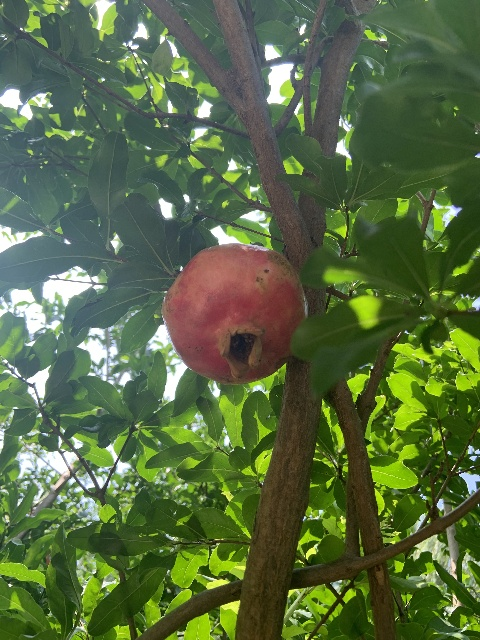ripe: (161, 244, 306, 383)
